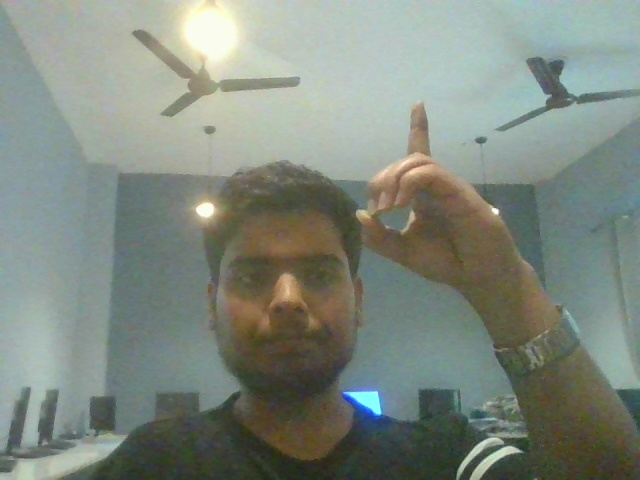D: (324, 86, 542, 296)
